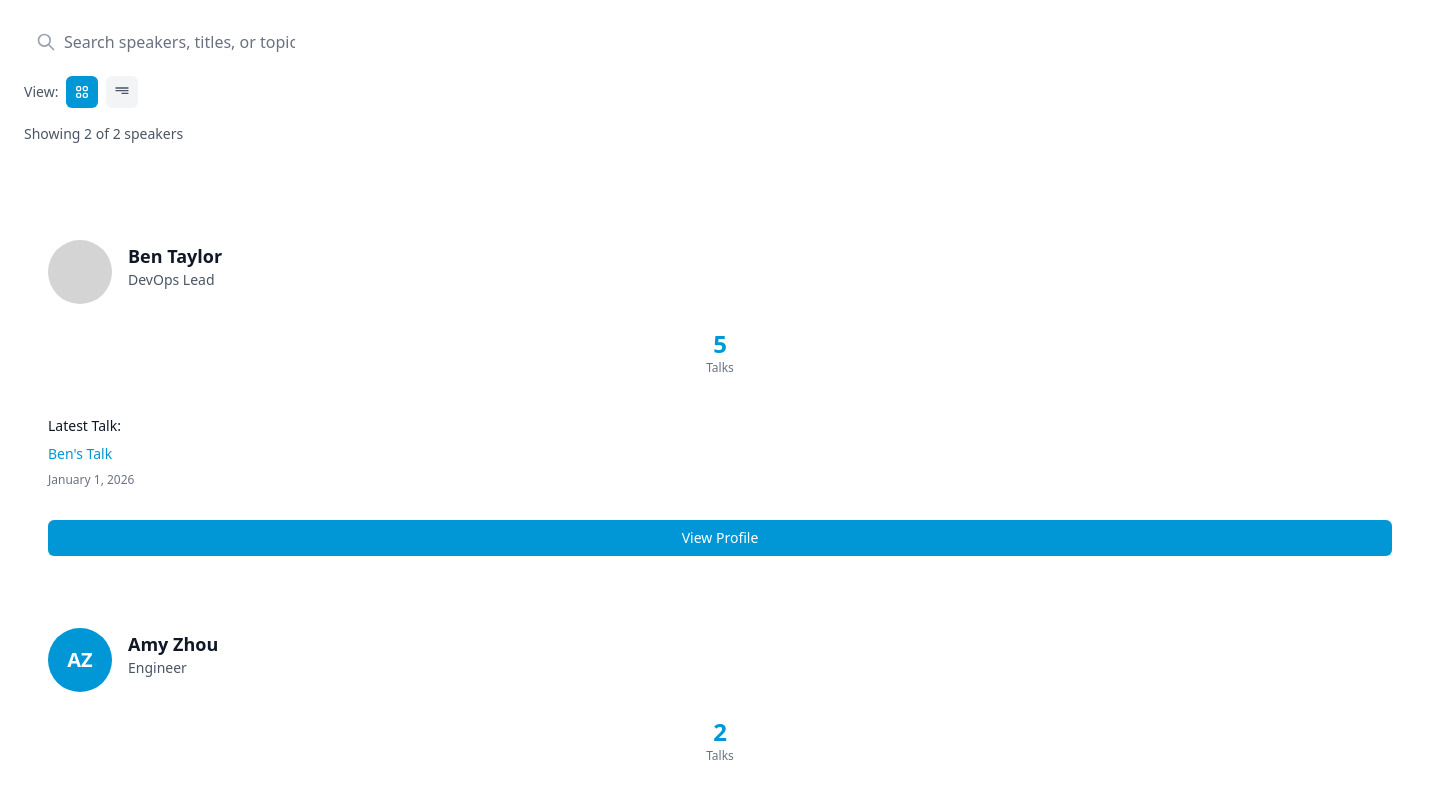
SpeakersTable › toggles sort direction via the mobile sort-direction button
Step 1. Click the button titled "Table view" → click(122, 92), box top-left (106, 76), bottom-right (138, 108)
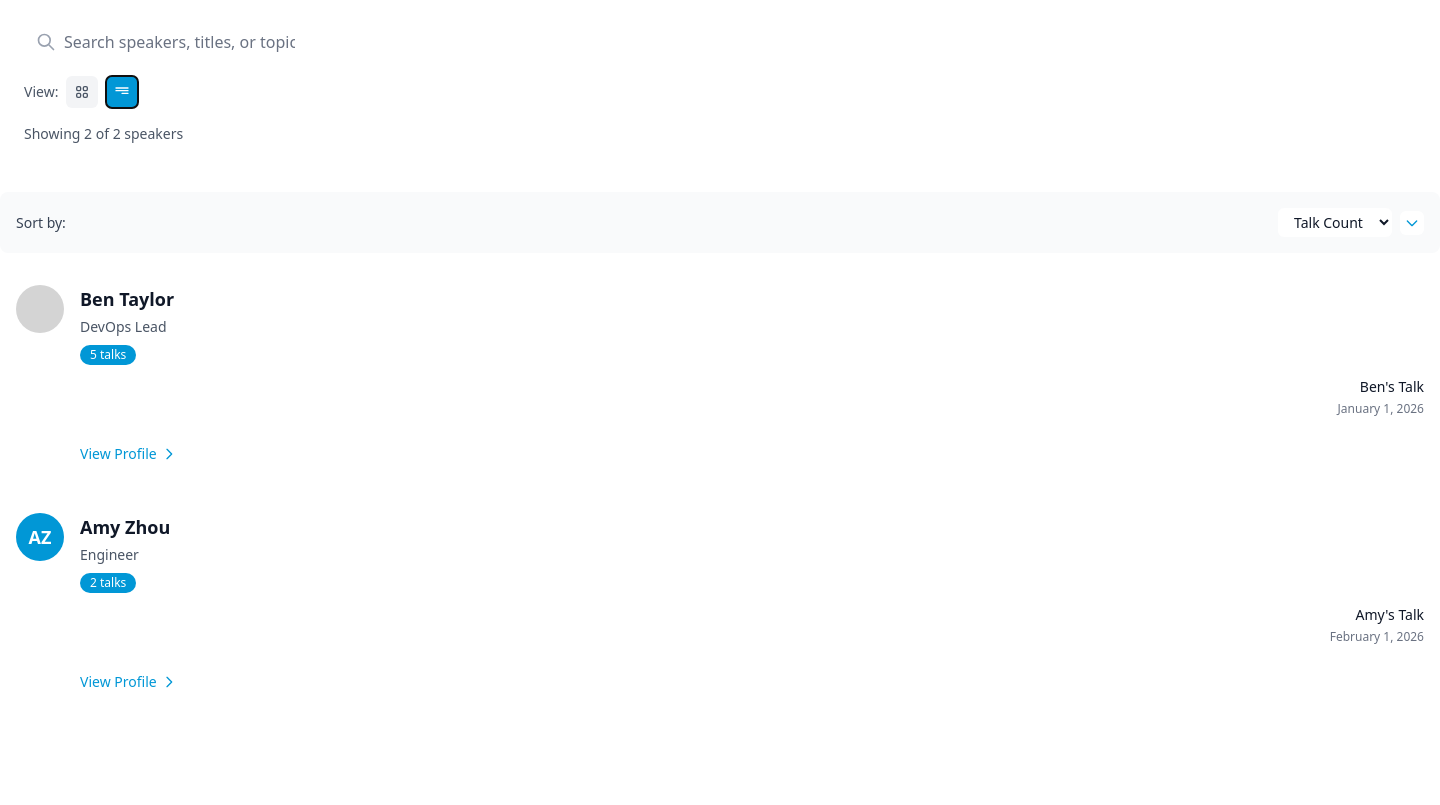
Step 2. Click the button titled "Sort ascending" → click(1412, 222), box top-left (1400, 210), bottom-right (1424, 234)
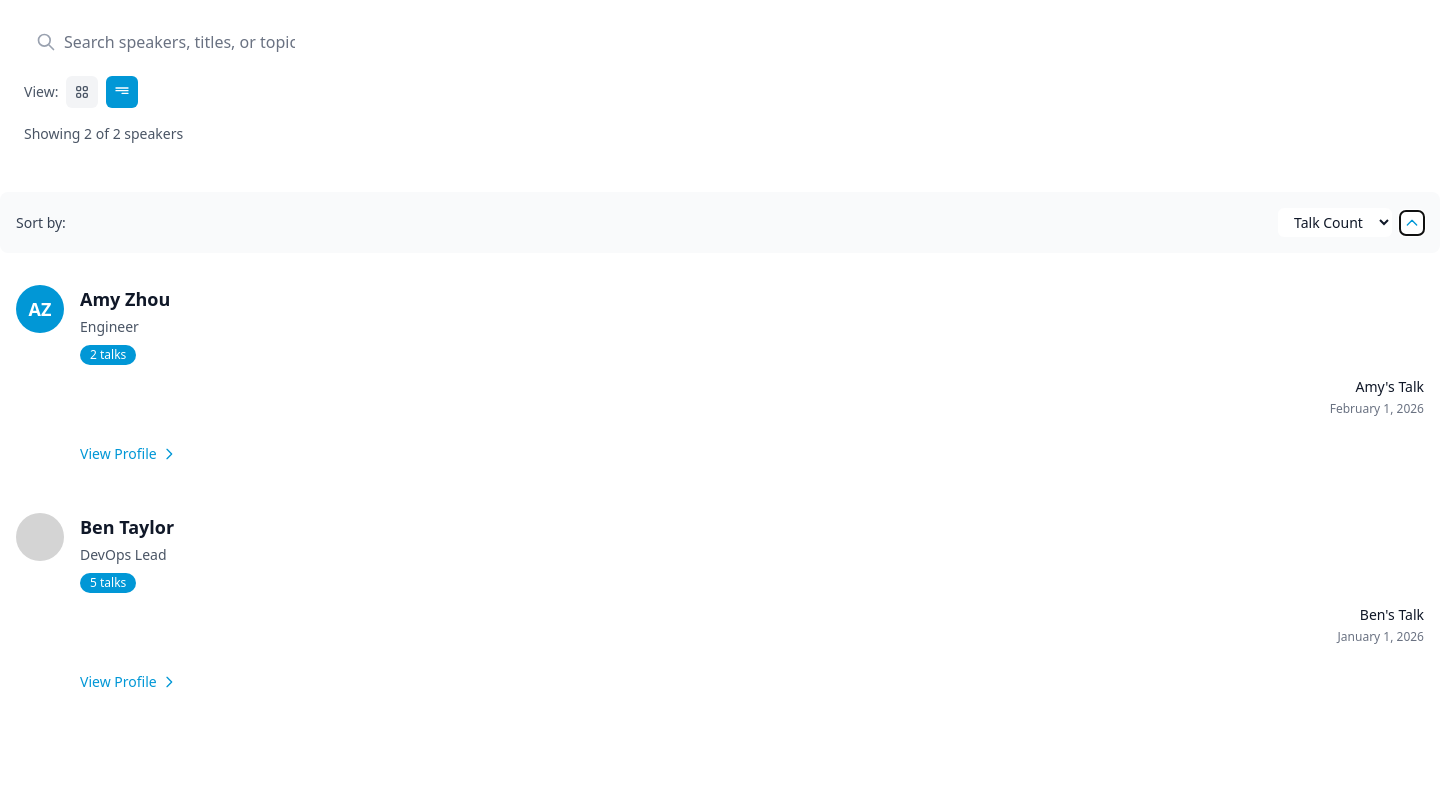
Result: the button titled "Sort descending" is shown at top-left (1400, 210), bottom-right (1424, 234)
